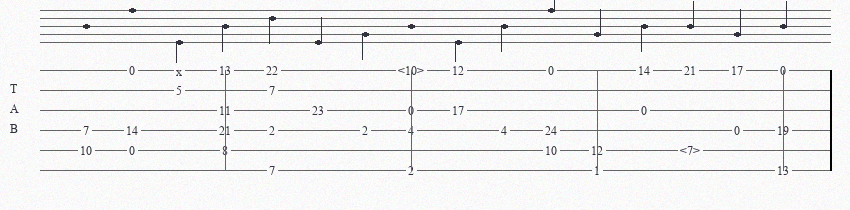0: (129, 64, 139, 77), (129, 144, 139, 157), (408, 104, 418, 117), (548, 64, 558, 77), (641, 104, 651, 117), (734, 124, 744, 137), (780, 64, 790, 77)
1: (594, 164, 604, 177)
10: (80, 144, 96, 157), (545, 144, 561, 157)
11: (219, 104, 235, 117)
12: (452, 64, 468, 77), (591, 144, 607, 157)
13: (219, 64, 235, 77), (777, 164, 793, 177)
14: (126, 124, 142, 137), (638, 64, 654, 77)
17: (452, 104, 468, 117), (731, 64, 747, 77)
19: (777, 124, 793, 137)
2: (269, 124, 279, 137), (362, 124, 372, 137), (408, 164, 418, 177)
21: (219, 124, 235, 137), (684, 64, 700, 77)
22: (266, 64, 282, 77)
23: (312, 104, 328, 117)
24: (545, 124, 561, 137)
4: (408, 124, 418, 137), (501, 124, 511, 137)
5: (176, 84, 186, 97)
7: (83, 124, 93, 137), (269, 84, 279, 97), (269, 164, 279, 177)
8: (222, 144, 232, 157)
harmonic: (398, 64, 428, 77), (680, 144, 704, 157)
x: (176, 65, 186, 75)
